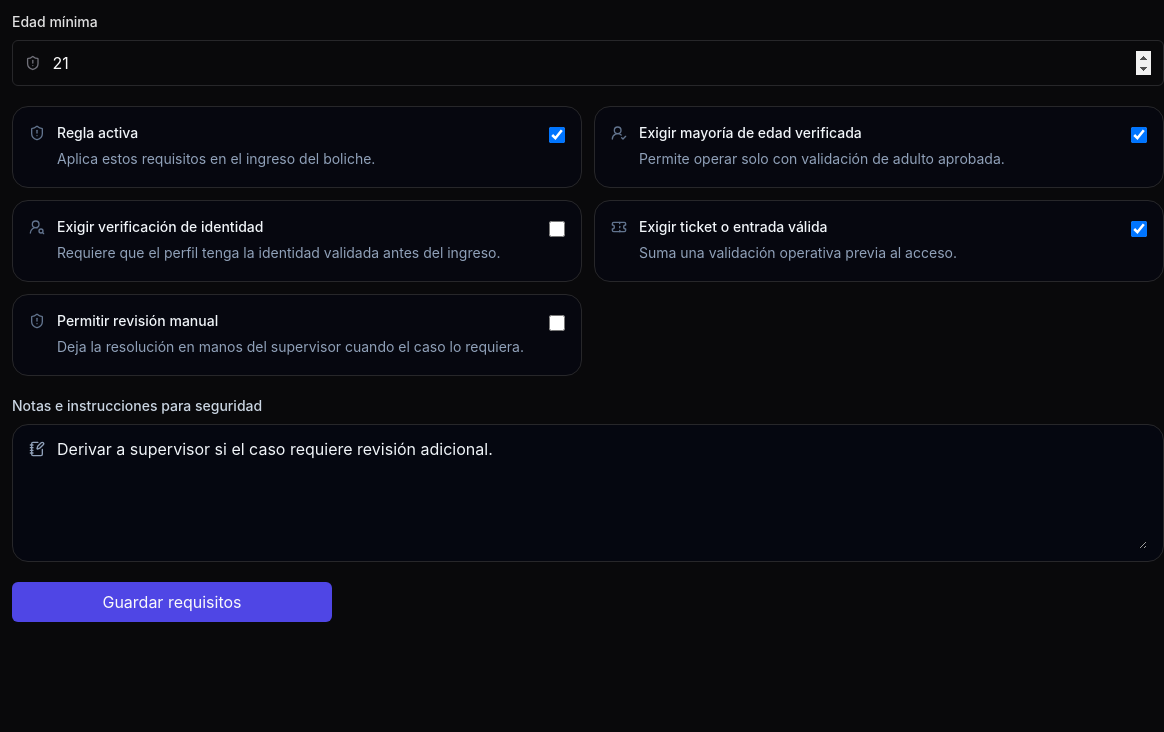
VenueEntryRulesForm › rejects an out-of-range minimum age before submit
The image size is (1164, 732).
Replace the text in the number field with placeholder "18" with "121" at coordinates (602, 63), box [53,51,1151,75]
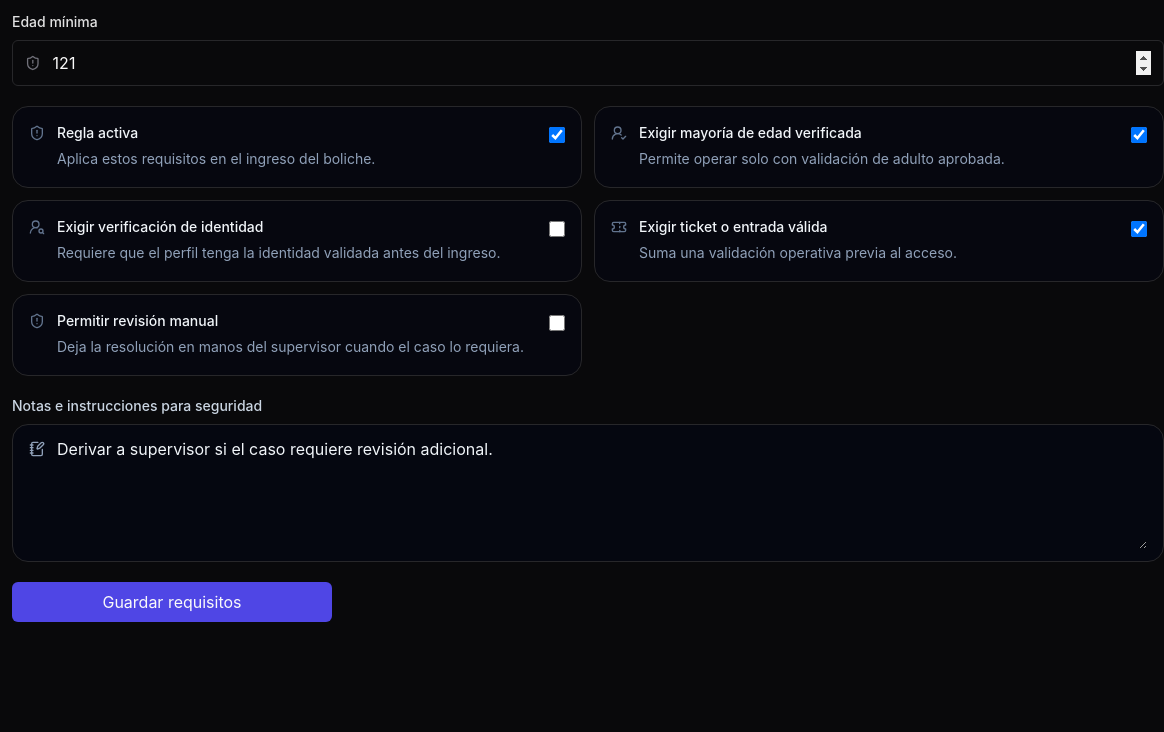
Click the button "Guardar requisitos".
click(172, 602)  # box [12,582,332,622]
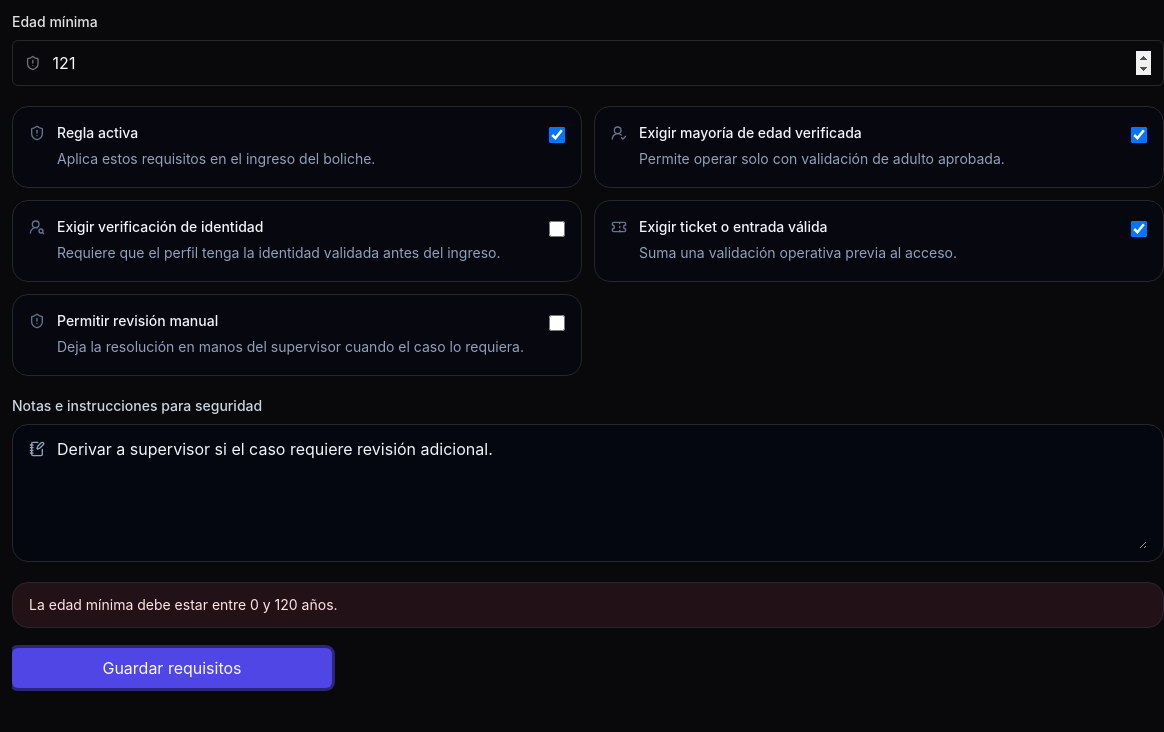
Result: the text "La edad mínima debe estar entre 0 y 120 años." is shown at [12,582,1163,628]
